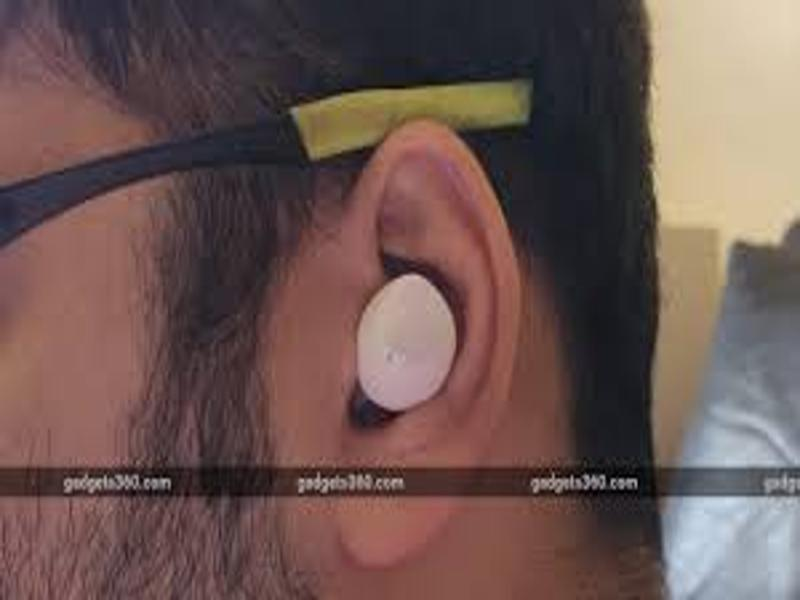headphone: (355, 269, 464, 413)
